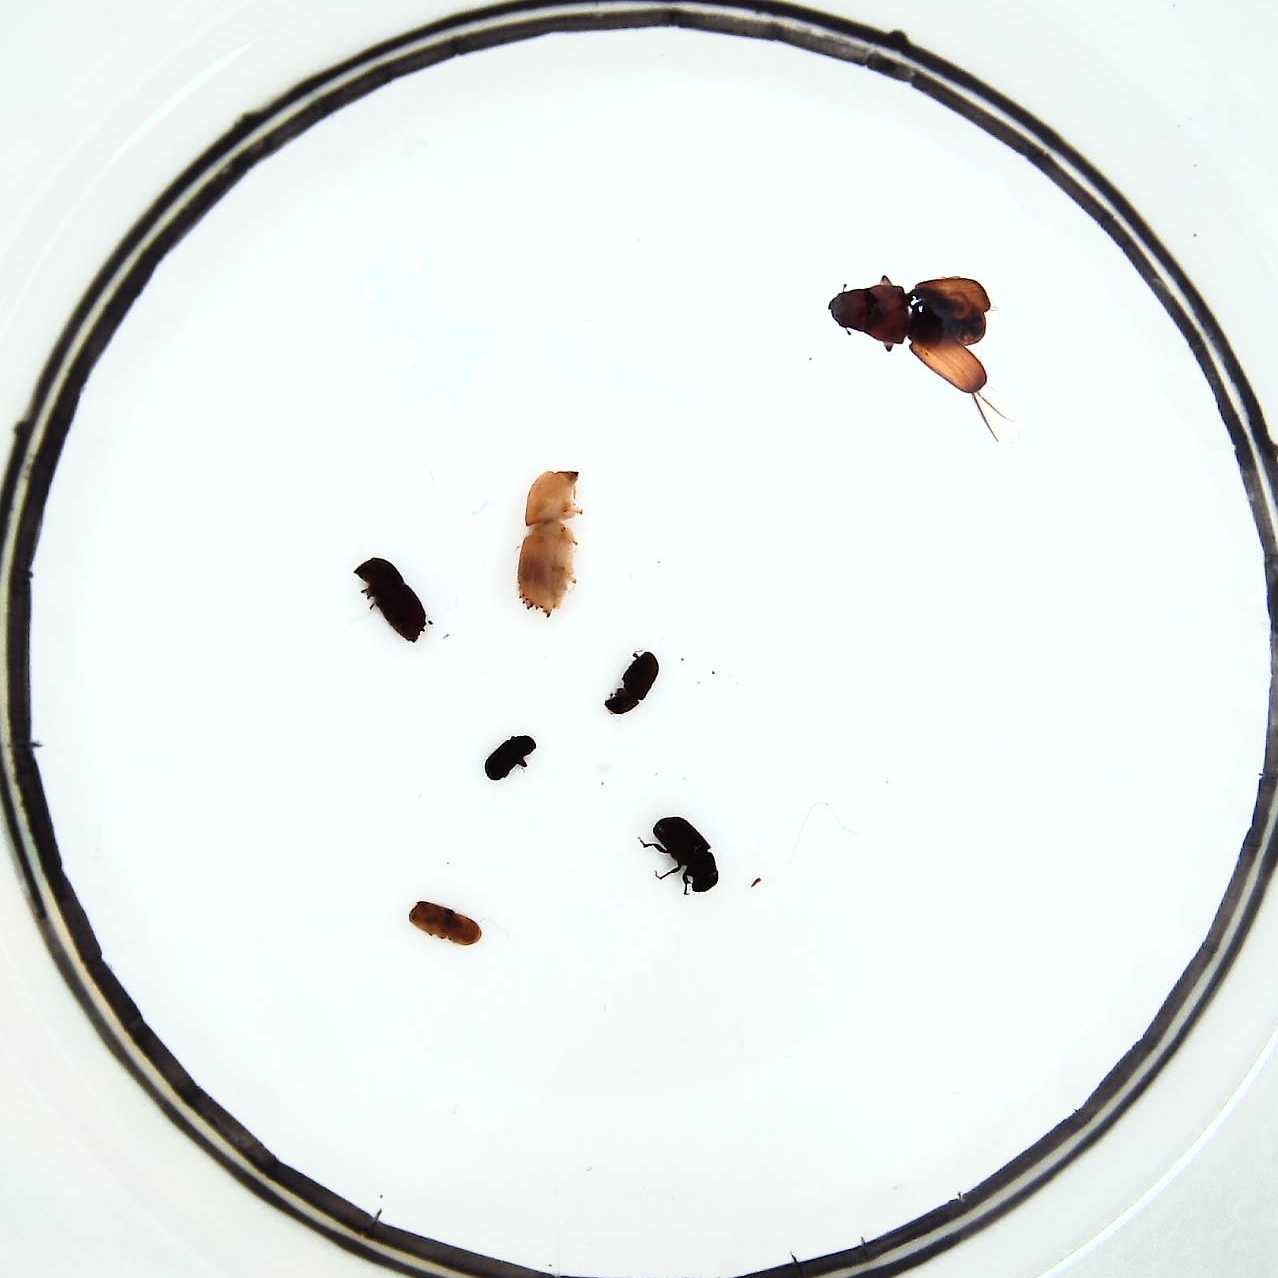Boerner: (516, 473, 579, 609)
Leconte: (823, 273, 994, 387)
Linnaeus: (357, 556, 425, 641)
acuminatus: (408, 895, 474, 941)
armandi: (637, 812, 716, 902)
coleoptera: (603, 648, 655, 717), (485, 736, 537, 786)
